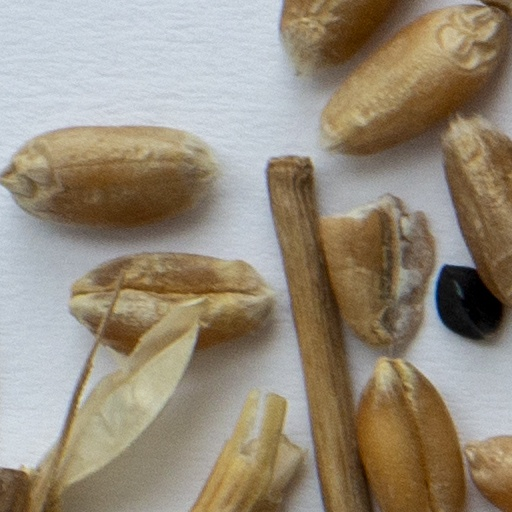Fallopia-Convolvulus-poly: (438, 266, 501, 338)
Wheat-grain-damaged-poly: (315, 189, 442, 361)
